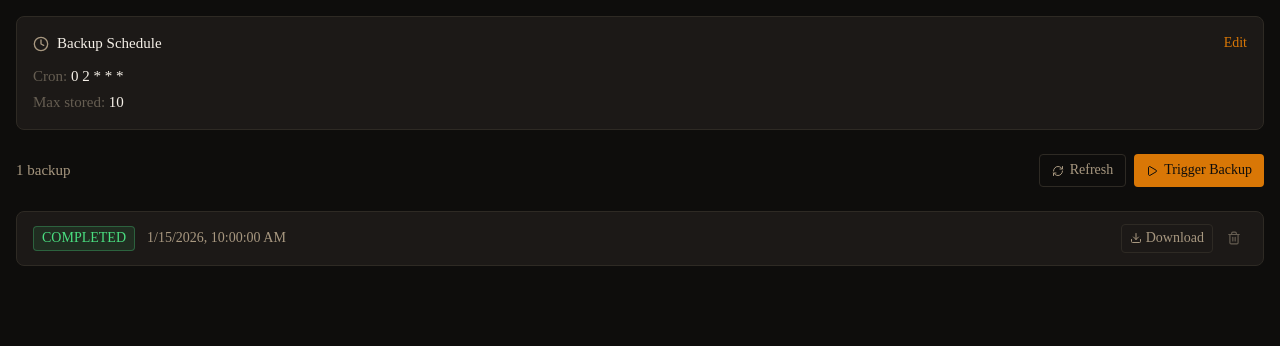
Scenario: BackupsTab › shows error banner on delete failure
The width and height of the screenshot is (1280, 346).
What coordinates should you click on to do the following:
click the button titled "Delete backup"
I would click on:
 (1234, 238)
Its box is [1221, 225, 1247, 251].
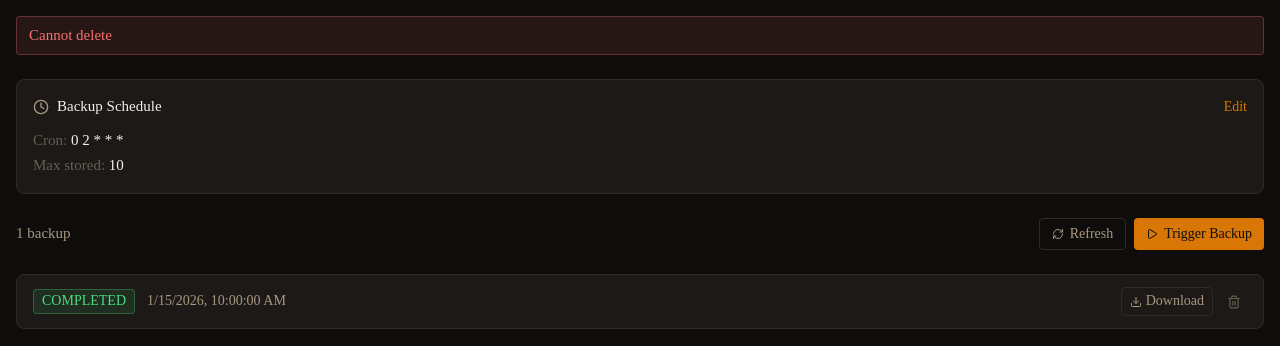
Result: the text "Cannot delete" is shown at [16, 16, 1264, 55]
